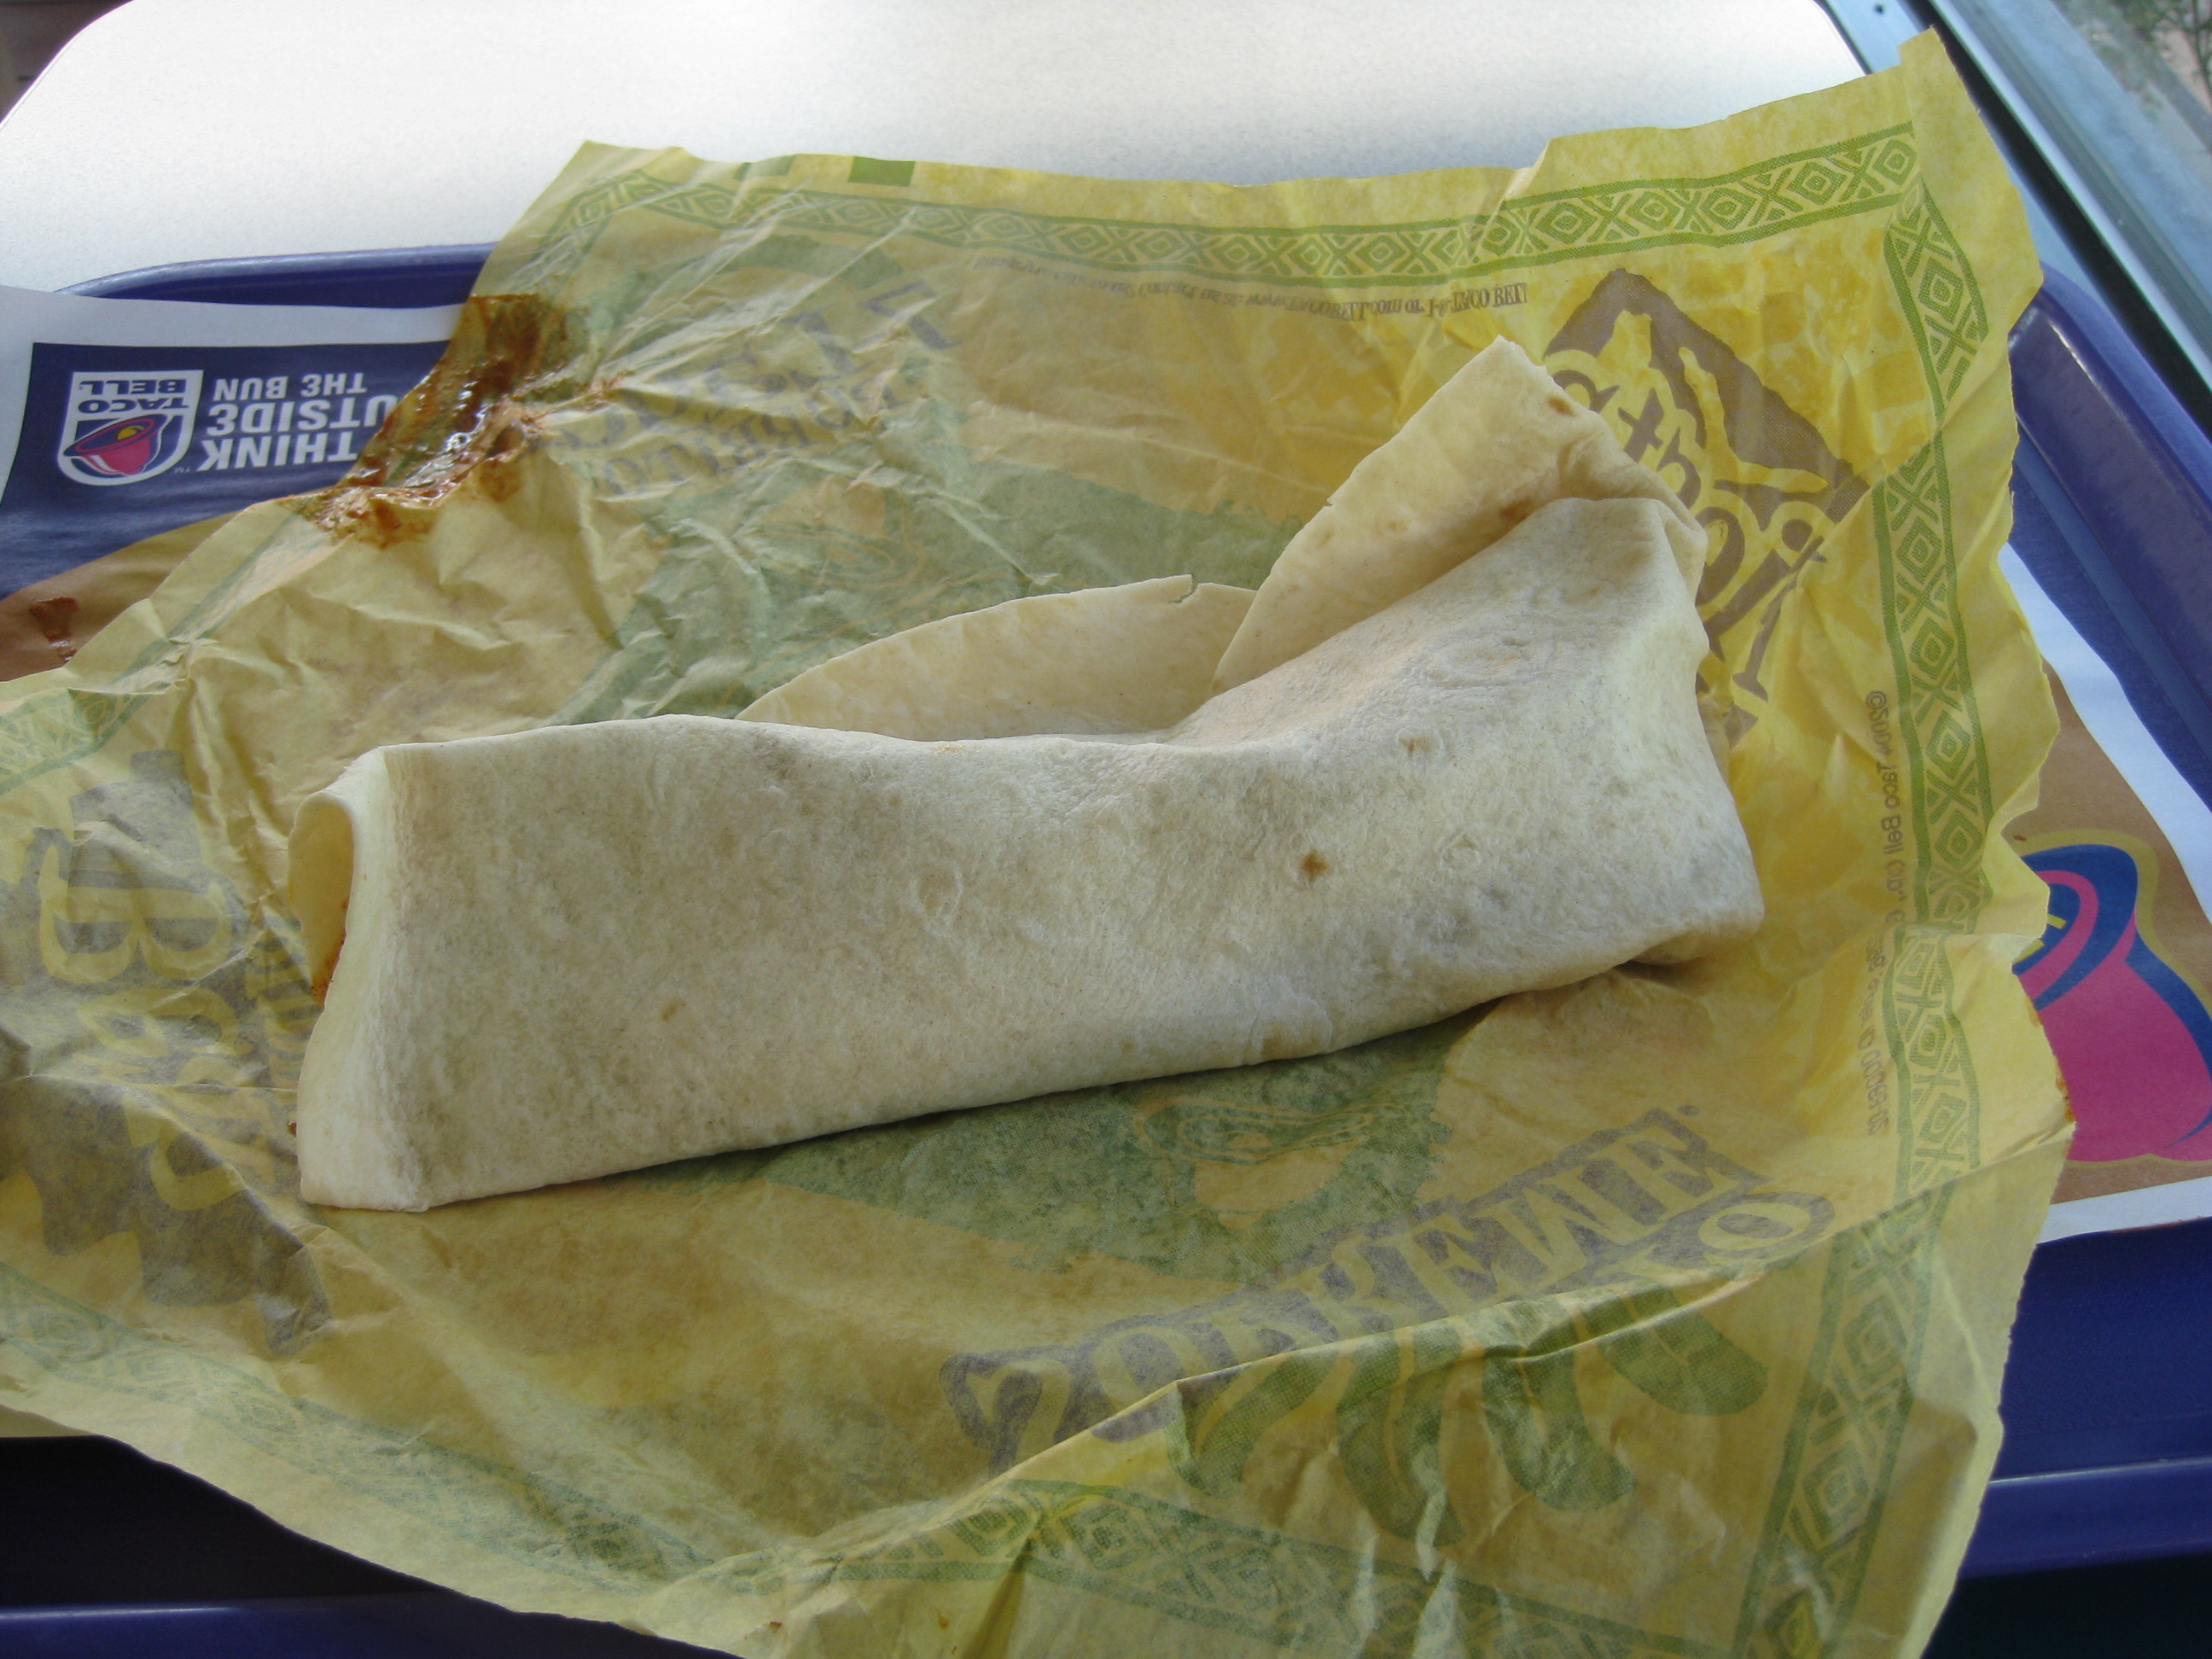burrito: (236, 322, 1885, 1352)
